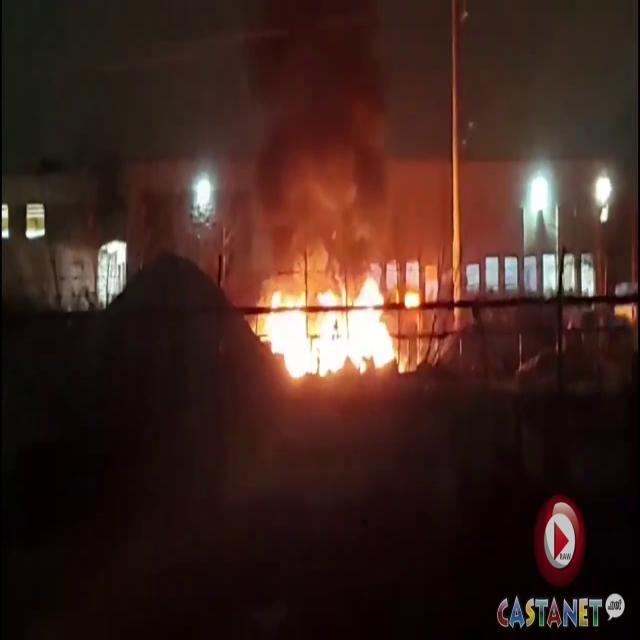Fire: (251, 263, 413, 389)
Smoke: (240, 2, 430, 256)
